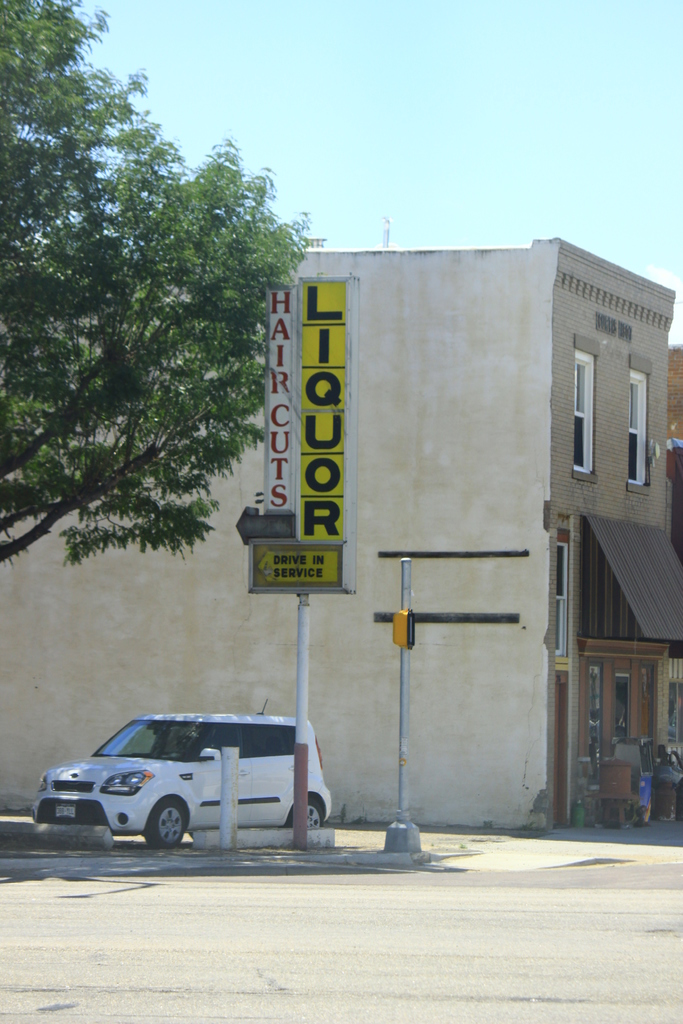Car: (23, 700, 330, 854)
